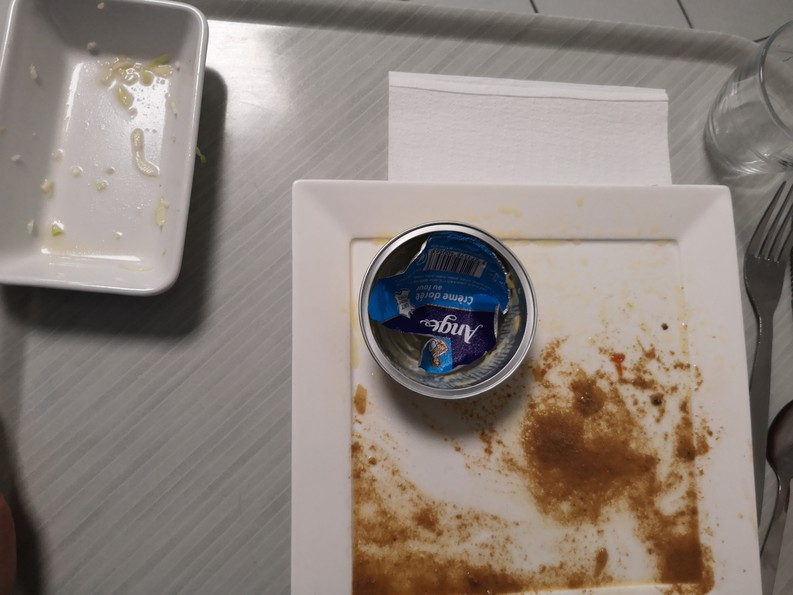cup: (716, 9, 793, 173)
cutlery: (753, 185, 793, 578)
trash: (376, 63, 686, 205), (345, 211, 552, 410)
